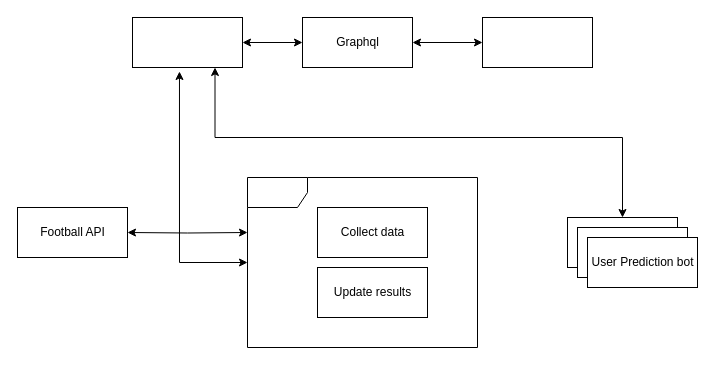
Image size: 715x365. Some labels were removed from this diagram. Here are the shapes that lost their labels. From the top down, the box of each, then its label:
(132, 16, 242, 68): MongoDb
(482, 16, 592, 68): Web Appp
(246, 176, 478, 348): Cronjob Scripts
